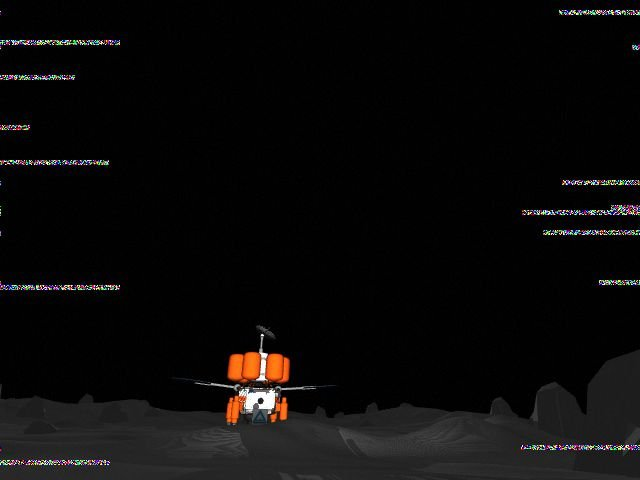homebase: (173, 323, 340, 433)
